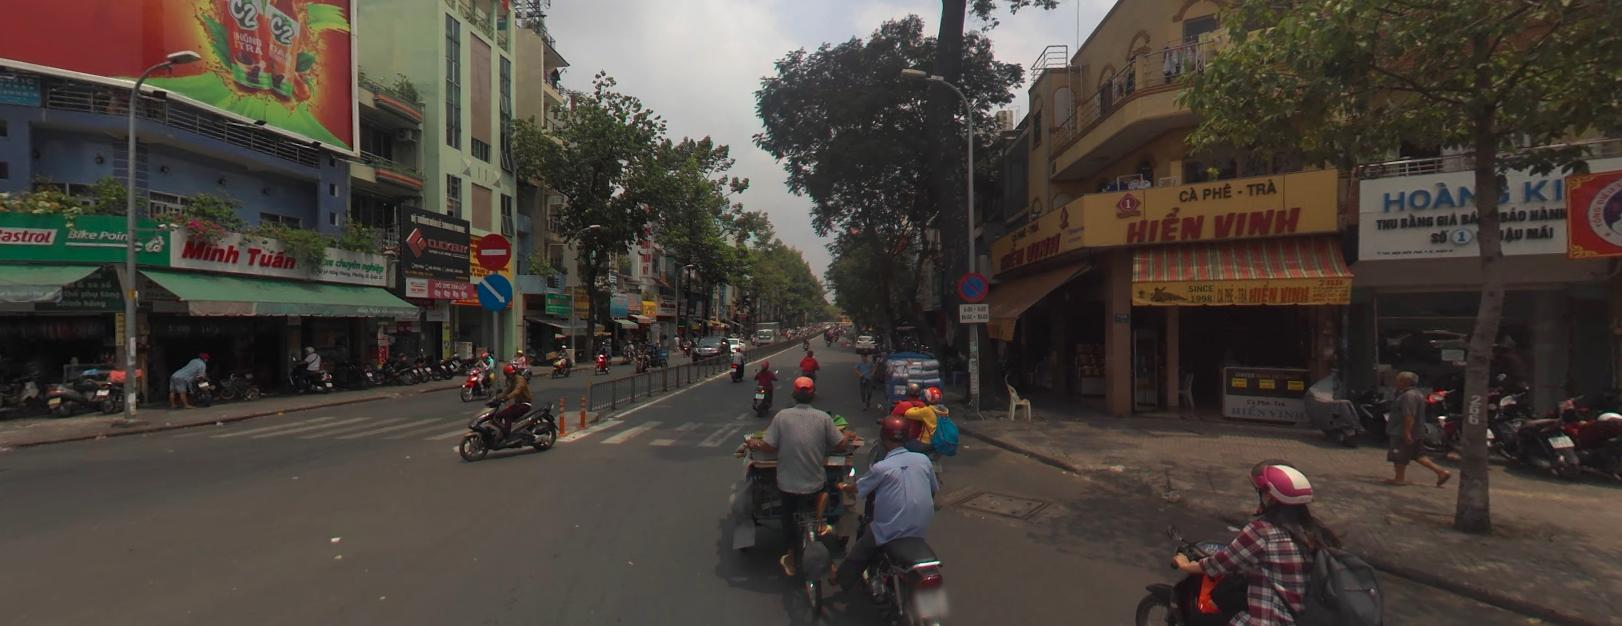Cam dung va do: (957, 271, 988, 301)
Cam nguoc chieu: (476, 232, 511, 270)
Hieu lenh: (476, 271, 511, 308)
